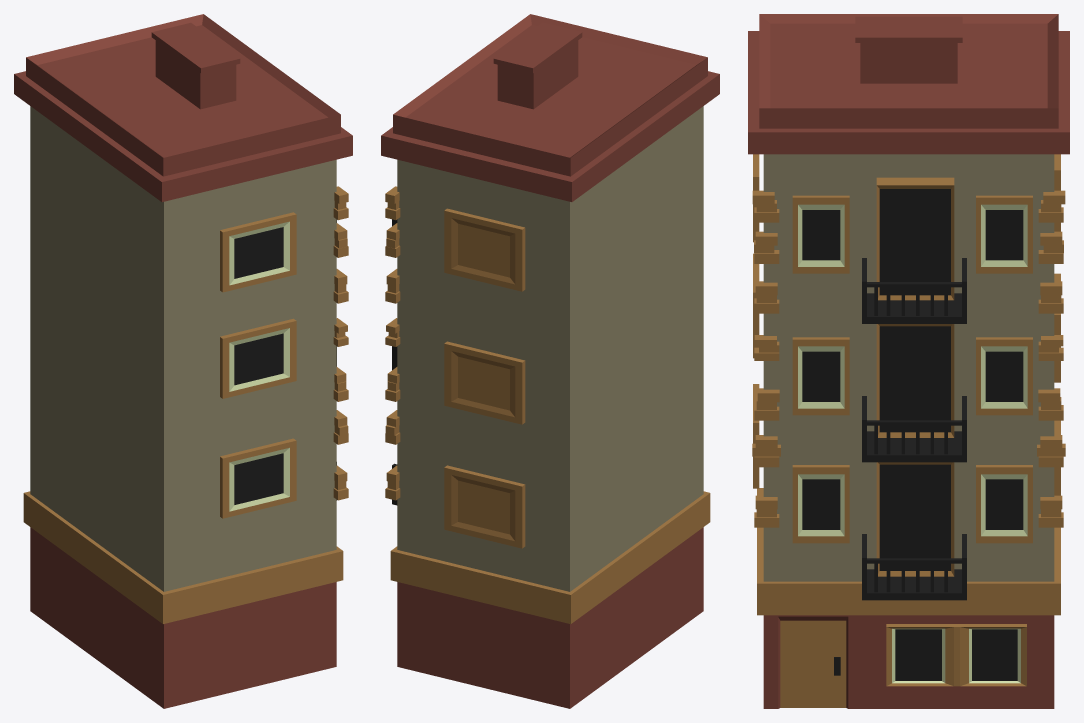
The model's file is edificio3.fbx.
3 renders of one model, left to right at view 1: azimuth 30°, elevation 25°; view 2: azimuth 150°, elevation 25°; view 3: azimuth 270°, elevation 25°, orthographic. The views are drawn at different scales.
Parts seen in each view (by area): view 1: Cube, Cube.002, Cube.004, Cube.001, Cube.003, Cube.005, Cube.019, Cube.020, Cube.018, Cube.158; view 2: Cube, Cube.002, Cube.004, Cube.001, Cube.003, Cube.005, Cube.021, Cube.022, Cube.023, Cube.158; view 3: Cube, Cube.004, Cube.002, Cube.003, Cube.158, Cube.001, Cube.010, Cube.024, Cube.006, Cube.007, Cube.005, Cube.012 (+11 smaller).
Boxes of the visible parts, x1=… form: Cube: x1=30, y1=106, x2=336, y2=591; Cube.002: x1=30, y1=527, x2=336, y2=708; Cube.004: x1=26, y1=14, x2=340, y2=176; Cube.001: x1=23, y1=491, x2=343, y2=623; Cube.003: x1=14, y1=71, x2=352, y2=201; Cube.005: x1=151, y1=22, x2=240, y2=109; Cube.019: x1=220, y1=212, x2=296, y2=292; Cube.020: x1=220, y1=438, x2=296, y2=518; Cube.018: x1=220, y1=318, x2=296, y2=398; Cube.158: x1=333, y1=186, x2=348, y2=500; Cube: x1=397, y1=106, x2=703, y2=591; Cube.002: x1=397, y1=527, x2=703, y2=708; Cube.004: x1=393, y1=14, x2=707, y2=176; Cube.001: x1=390, y1=491, x2=710, y2=623; Cube.003: x1=381, y1=71, x2=719, y2=201; Cube.005: x1=493, y1=22, x2=582, y2=109; Cube.021: x1=444, y1=208, x2=525, y2=291; Cube.022: x1=444, y1=341, x2=525, y2=424; Cube.023: x1=444, y1=465, x2=525, y2=548; Cube.158: x1=385, y1=186, x2=400, y2=500; Cube: x1=763, y1=154, x2=1054, y2=581; Cube.004: x1=759, y1=14, x2=1058, y2=128; Cube.002: x1=763, y1=615, x2=1054, y2=708; Cube.003: x1=748, y1=31, x2=1069, y2=154; Cube.158: x1=752, y1=190, x2=1065, y2=527; Cube.001: x1=757, y1=488, x2=1060, y2=615; Cube.010: x1=876, y1=177, x2=954, y2=300; Cube.024: x1=886, y1=624, x2=1026, y2=686; Cube.006: x1=876, y1=462, x2=954, y2=576; Cube.007: x1=876, y1=324, x2=954, y2=437; Cube.005: x1=855, y1=16, x2=962, y2=83; Cube.012: x1=792, y1=195, x2=849, y2=273.
Size of the model in its own units: 484 by 1201 by 545.
